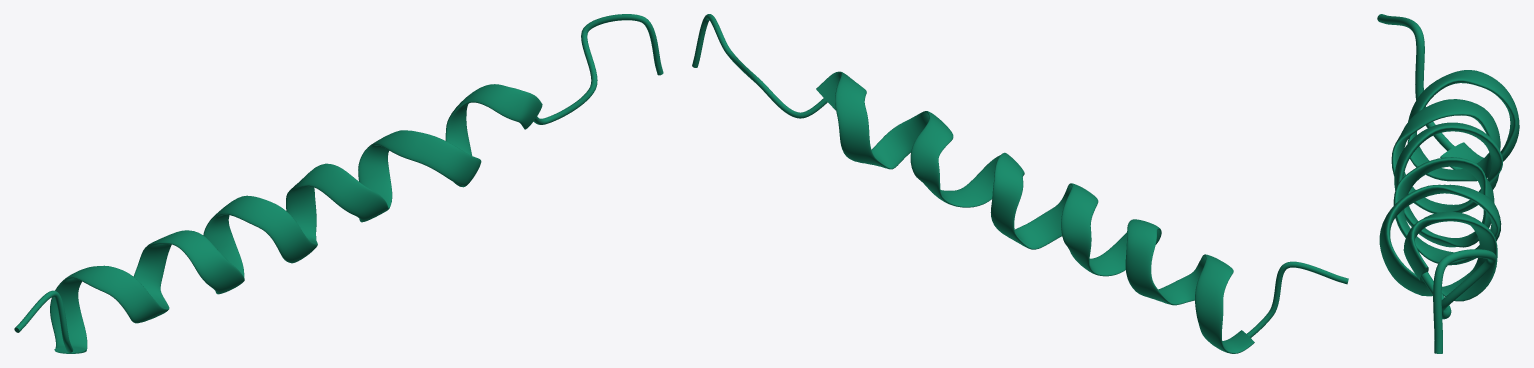
File: 1GCN-20250310T220814715Z-wjl87g.glb
The picture shows the model from 3 angles, left to right: view 1: azimuth 30°, elevation 25°; view 2: azimuth 150°, elevation 25°; view 3: azimuth 270°, elevation 25°; orthographic projection. The views are drawn at different scales.
Size of the model in its own units: 48.92 by 14.59 by 6.59.
